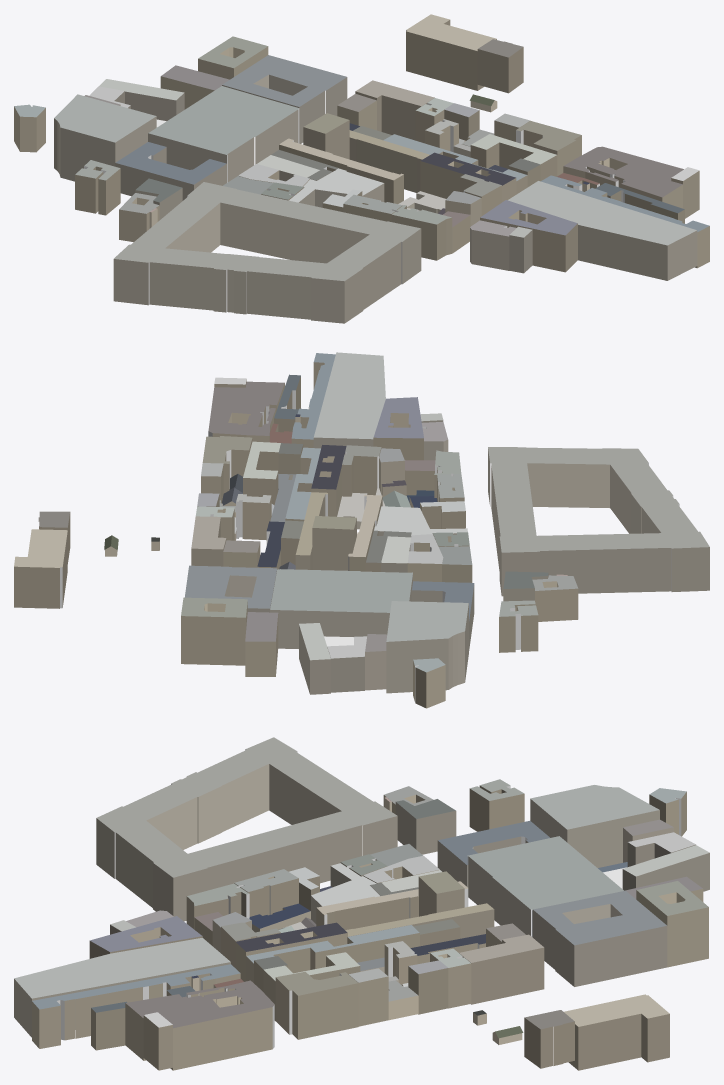
3 renders of one model, top to bottom at view 1: azimuth 30°, elevation 25°; view 2: azimuth 150°, elevation 25°; view 3: azimuth 270°, elevation 25°, orthographic. The views are drawn at different scales.
Visible parts, largest first — view 1: tuile; view 2: tuile; view 3: tuile.
Part boxes in pixels (bbox=[...]): tuile: bbox=[14, 14, 709, 323]; tuile: bbox=[14, 352, 709, 708]; tuile: bbox=[14, 737, 709, 1070].
Size of the model in its own units: 301 by 31.26 by 308.
